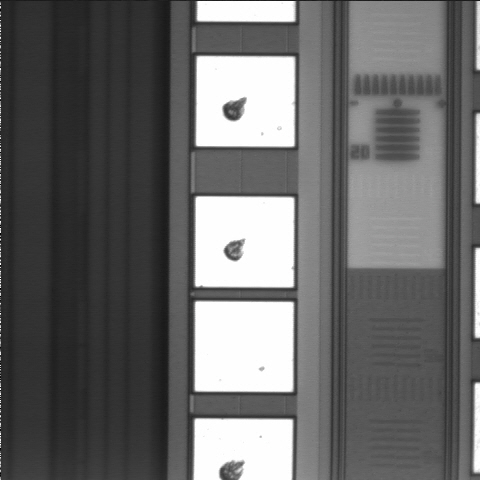pad: (196, 56, 295, 147), (195, 301, 293, 392), (195, 197, 294, 287)
